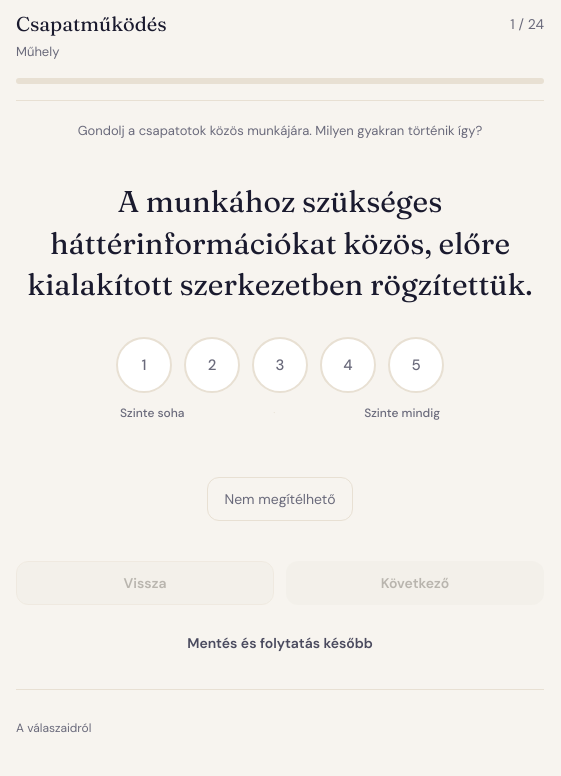
Test: Operating Style participant flow › shows one statement with a frequency scale, preserves N/A when going back and saves drafts
Expected: the number of radio buttons is 5, [116, 337, 172, 393]; [184, 337, 240, 393]; [252, 337, 308, 393]; [320, 337, 376, 393]; [388, 337, 444, 393]
Expected: the button "Következő" is disabled, [286, 561, 544, 605]
Click the button "Nem megítélhető". click: (280, 499)
box: [208, 477, 353, 521]
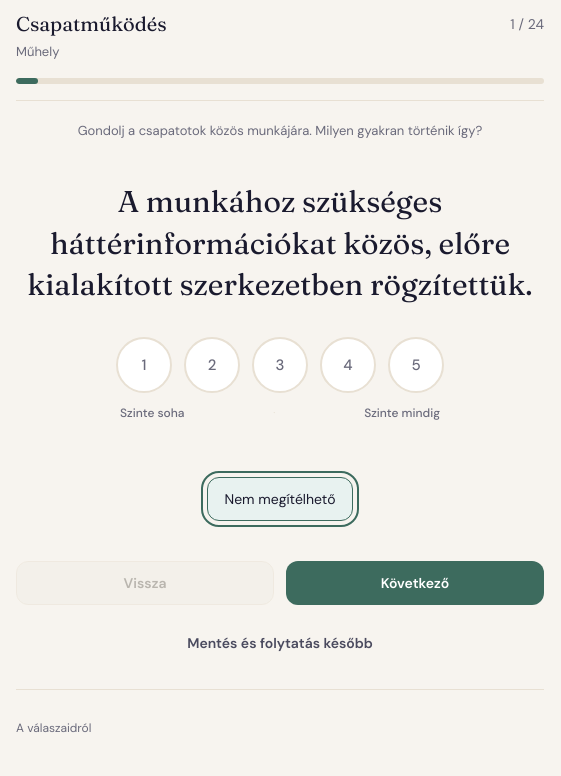
Click the button "Következő". click: (415, 583)
box: [286, 561, 544, 605]
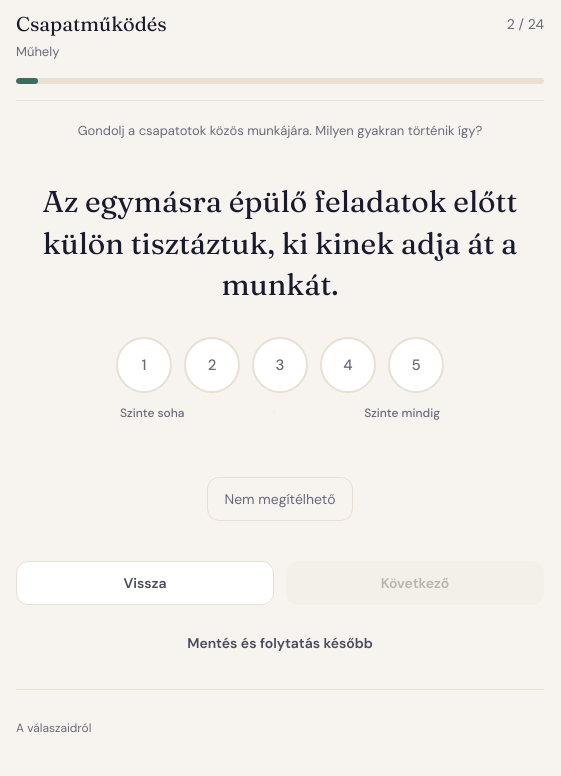
Click the button "Vissza". click: (145, 583)
box: [16, 561, 274, 605]
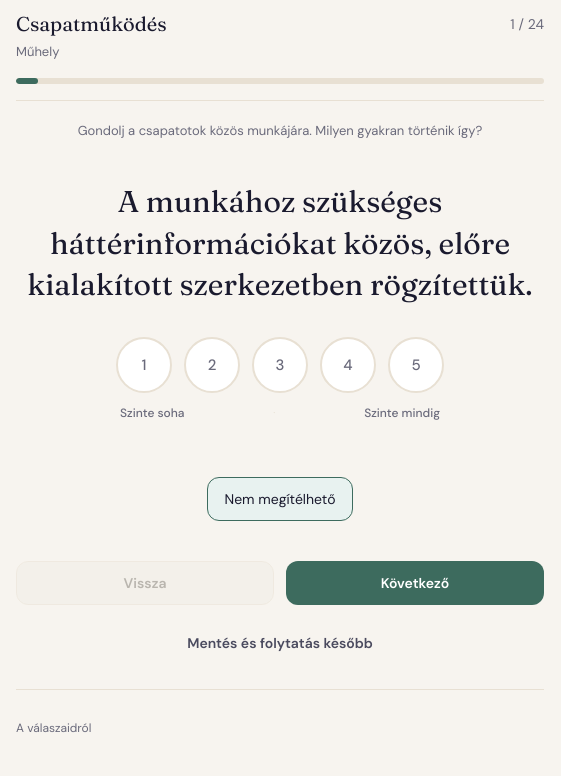
Expected: the button "Nem megítélhető" is pressed, [208, 477, 353, 521]
Click the button "Mentés és folytatás később". click: (280, 643)
box: [16, 621, 544, 665]
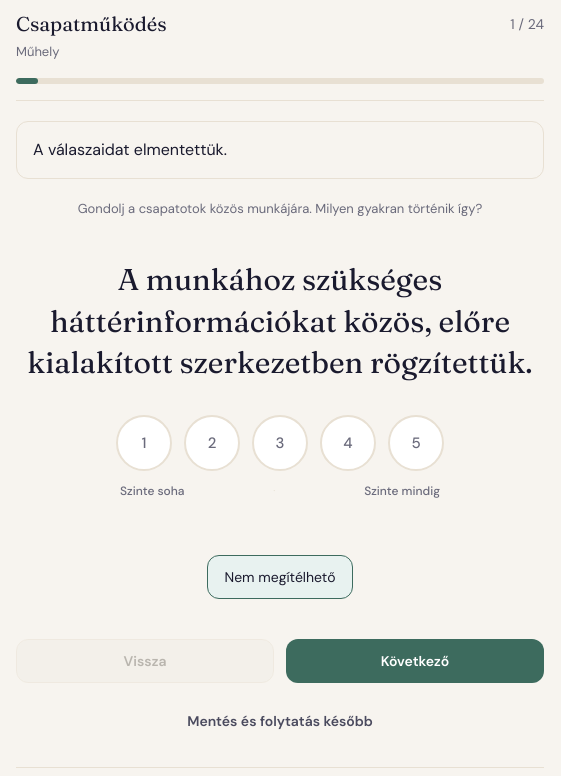
Expected: the message shows "elmentettük", [33, 139, 227, 160]
